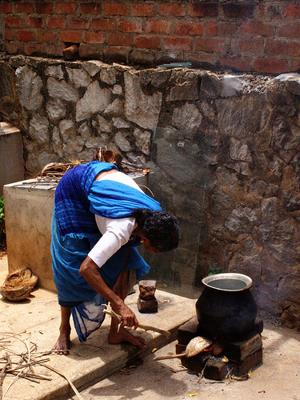person: (49, 163, 181, 357)
